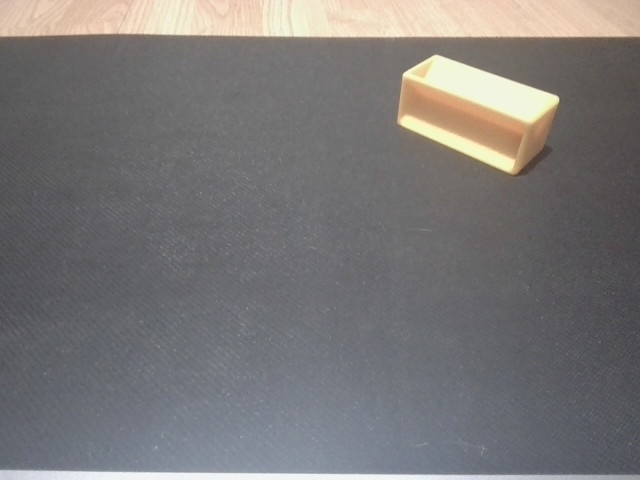YellowSample: (394, 50, 562, 181)
